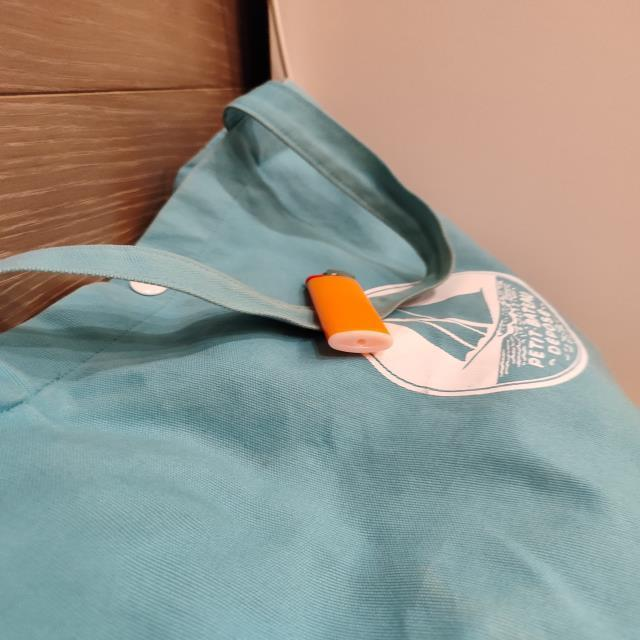lighter: (305, 273, 391, 354)
